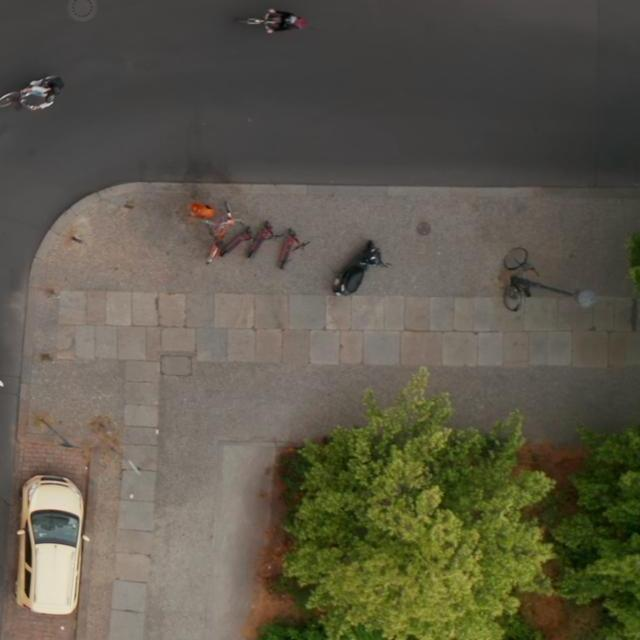Car: (14, 473, 90, 616)
Motorcycle: (330, 240, 393, 298)
